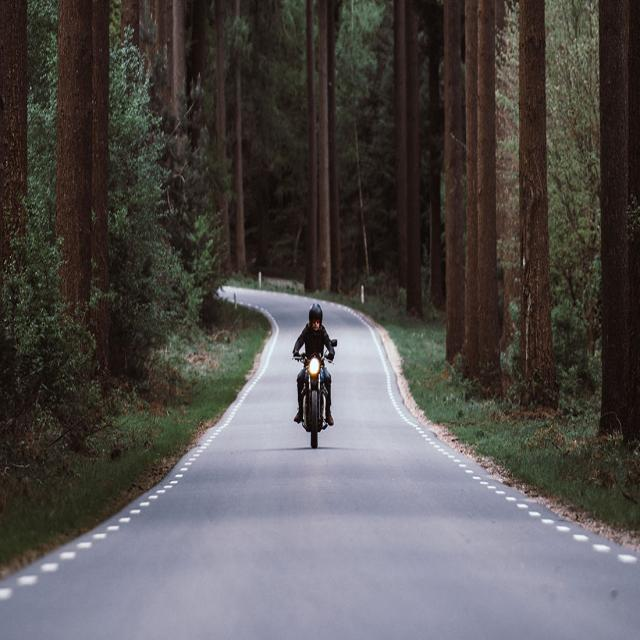MOTORCYCLE: (292, 342, 333, 449)
